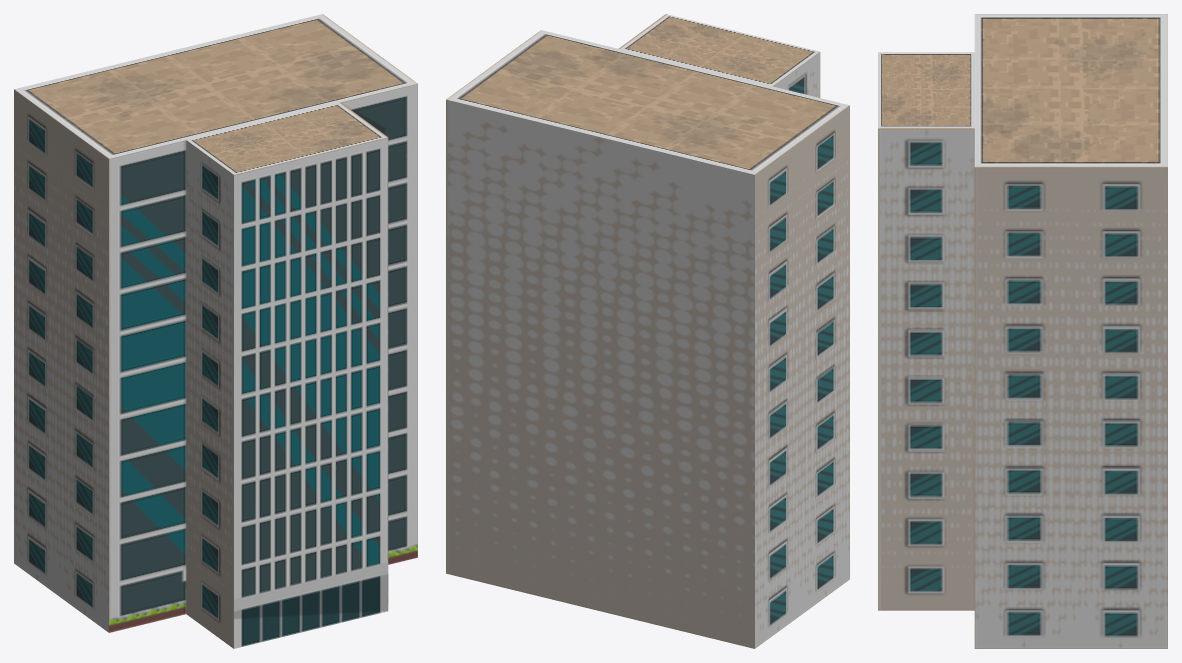
Rendered from un_tower.glb.
3 views of the same model, side by side, from view 1: azimuth 30°, elevation 25°; view 2: azimuth 150°, elevation 25°; view 3: azimuth 270°, elevation 25° (orthographic).
Parts seen in each view (by area): view 1: Box001; view 2: Box001; view 3: Box001.
Part boxes in pixels (x1,y1,x2,y2): Box001: (14,14,417,648); Box001: (446,14,849,648); Box001: (878,14,1167,648).
Size of the model in its own units: 1.9 by 2.79 by 1.52.
1 material, 1 textured.
